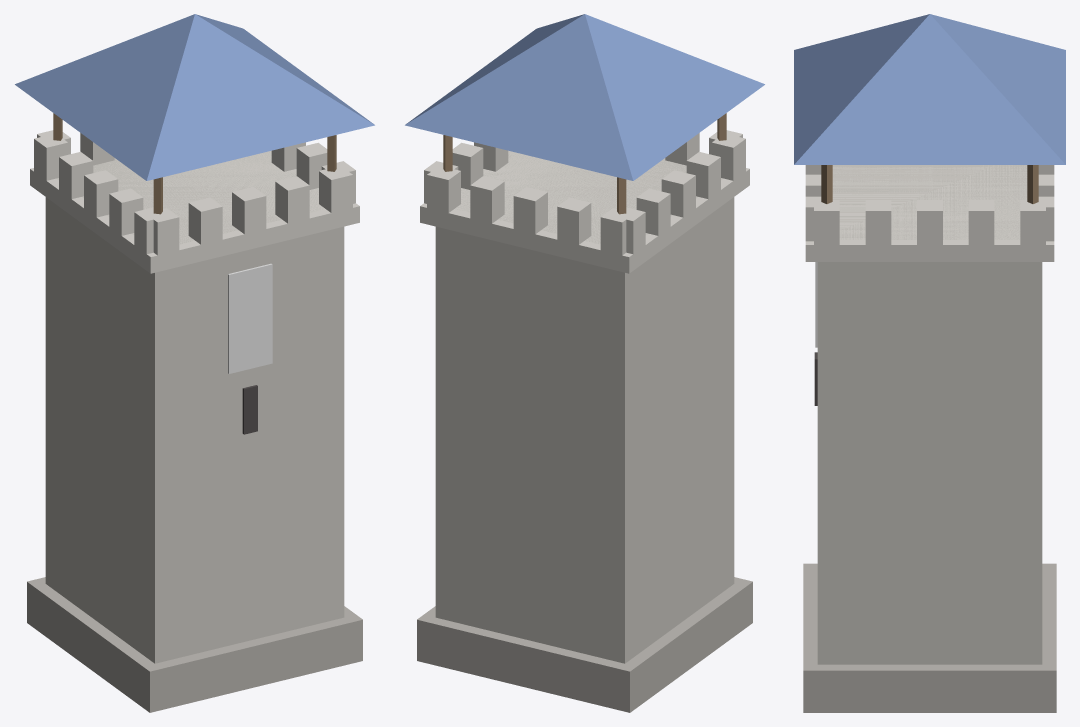
The picture shows the model from 3 angles, left to right: view 1: azimuth 30°, elevation 25°; view 2: azimuth 150°, elevation 25°; view 3: azimuth 270°, elevation 25°; orthographic projection. The views are drawn at different scales.
Parts seen in each view (by area): view 1: body; view 2: body; view 3: body.
Boxes of the visible parts, <box> form: body: <box>15,14,374,712</box>; body: <box>405,14,764,712</box>; body: <box>794,14,1065,712</box>.
Bounding box in the file's own units: 5.8 × 15.2 × 5.8.
